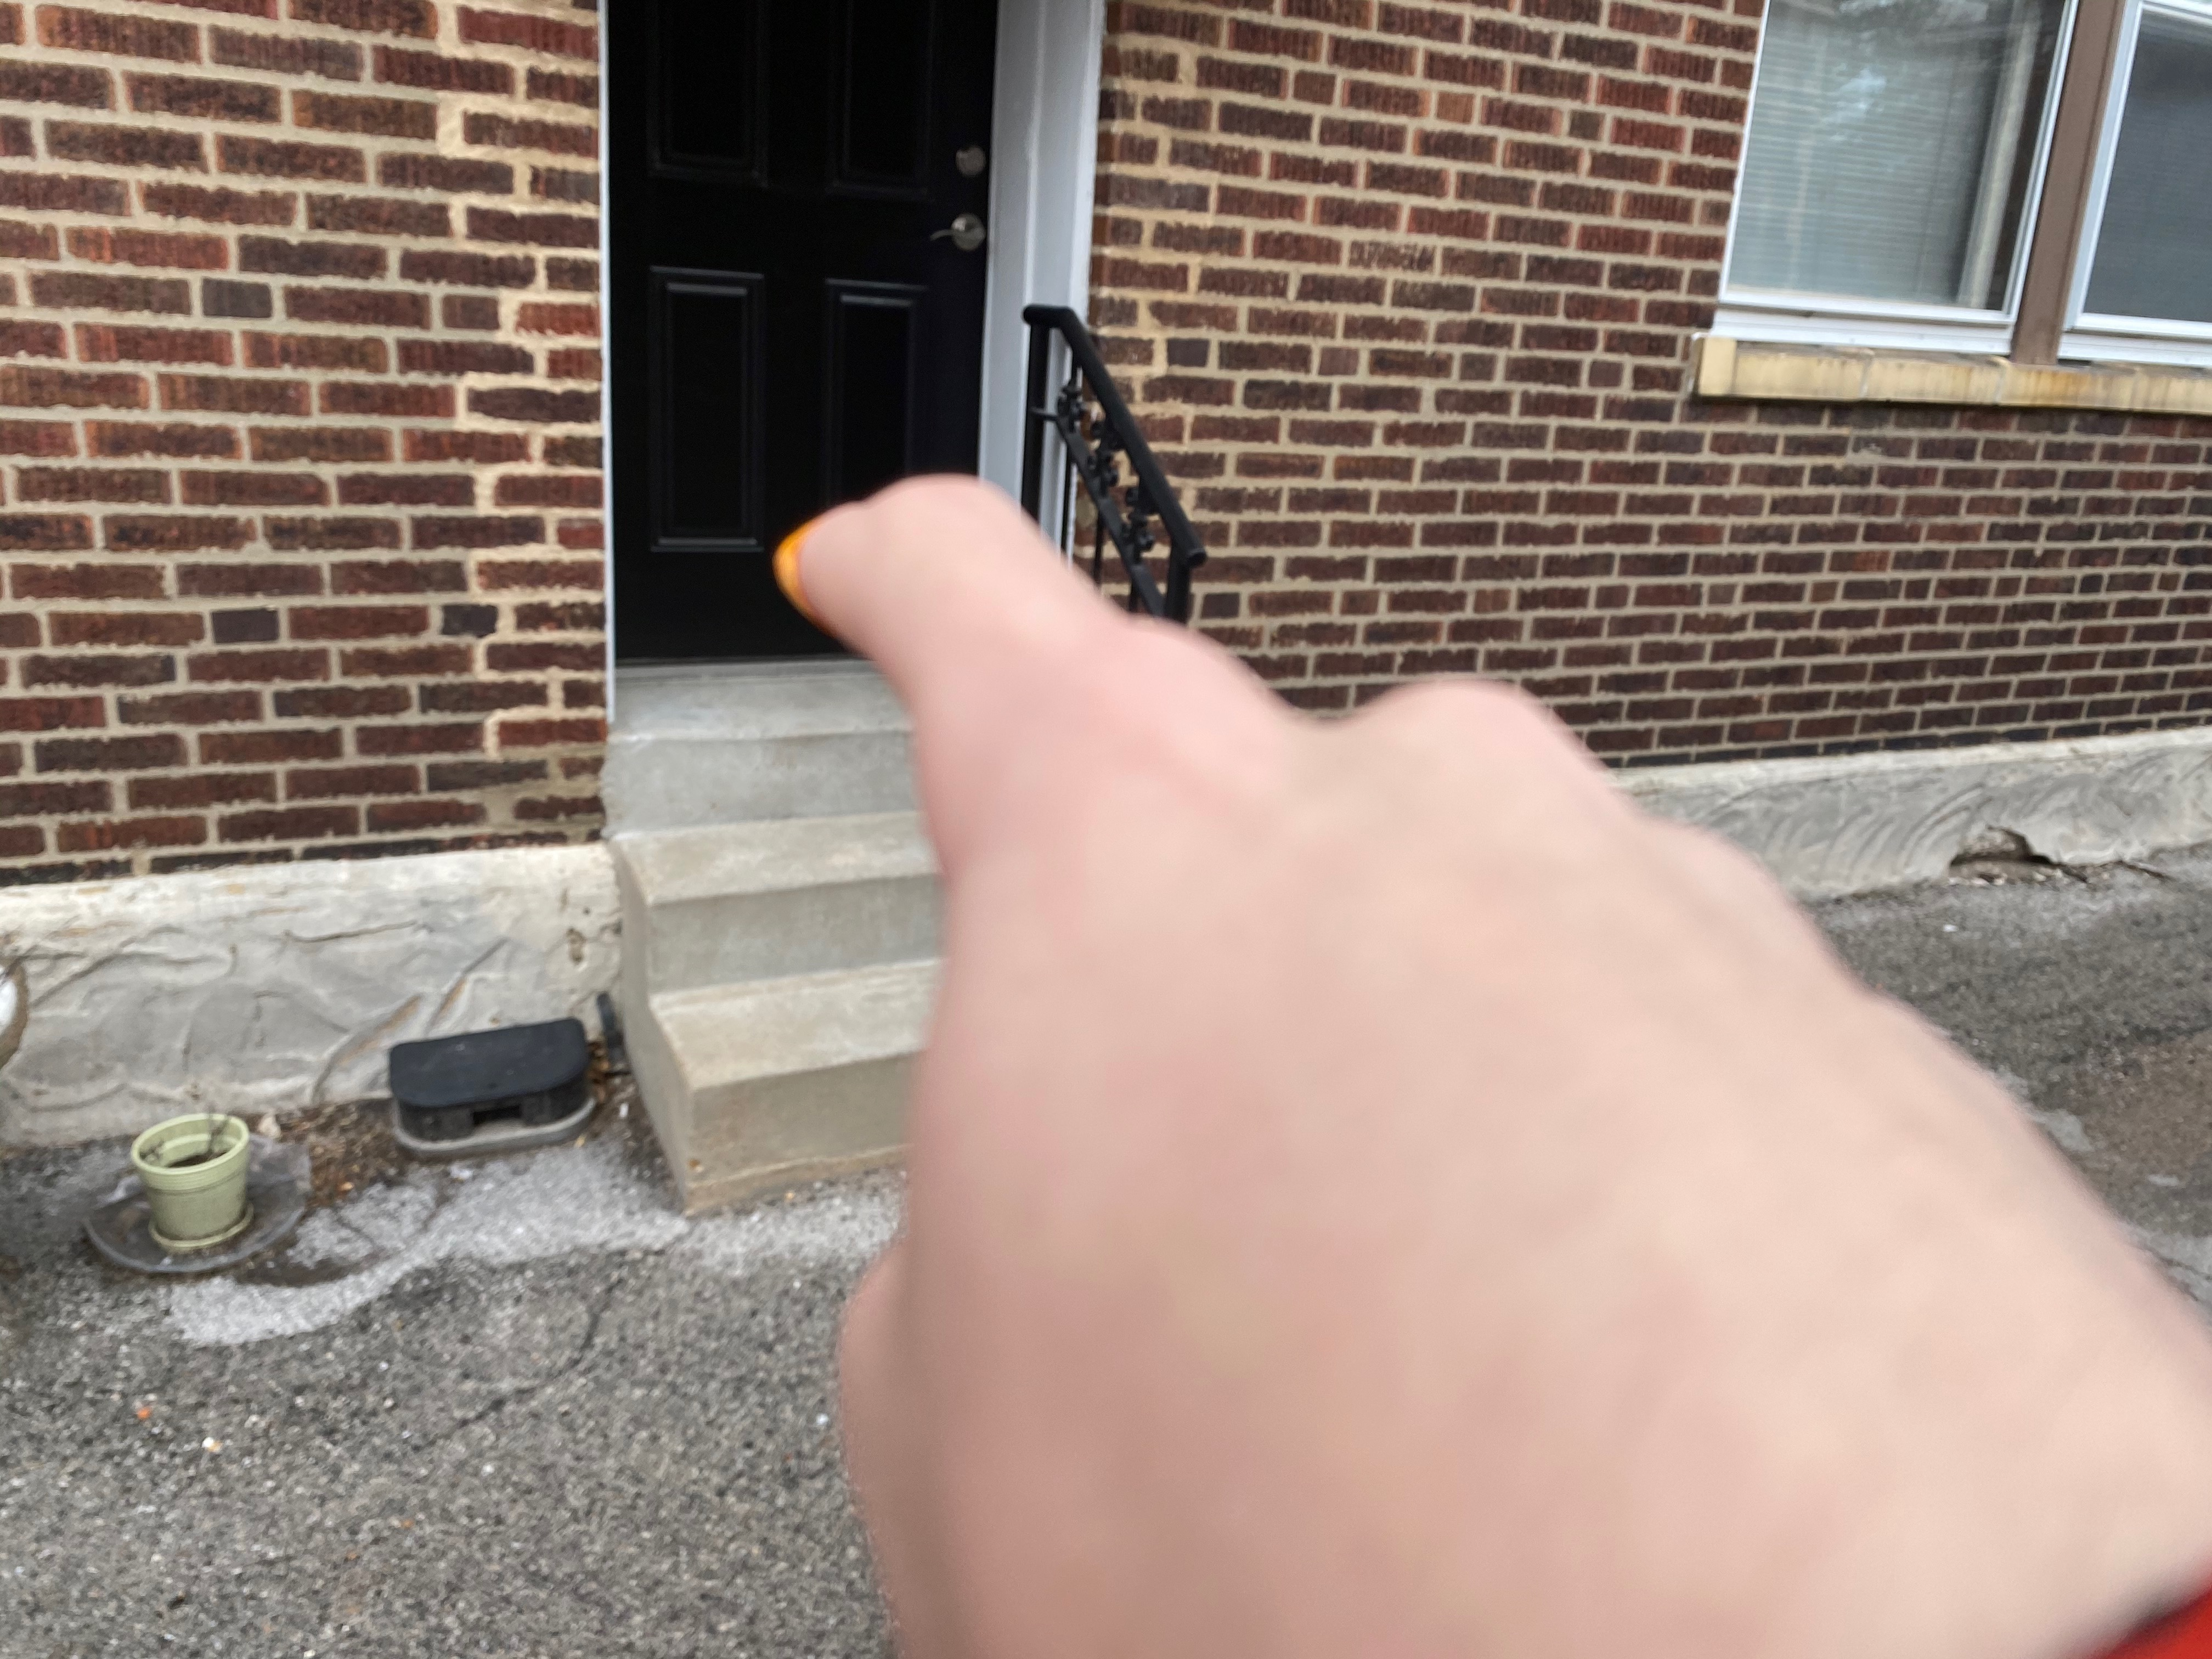fingertip: (752, 481, 887, 650)
